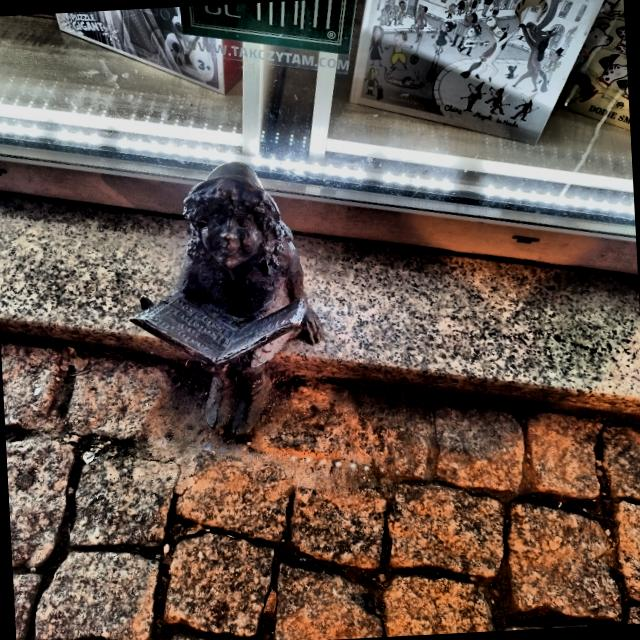Ksiegarka: (120, 151, 340, 451)
